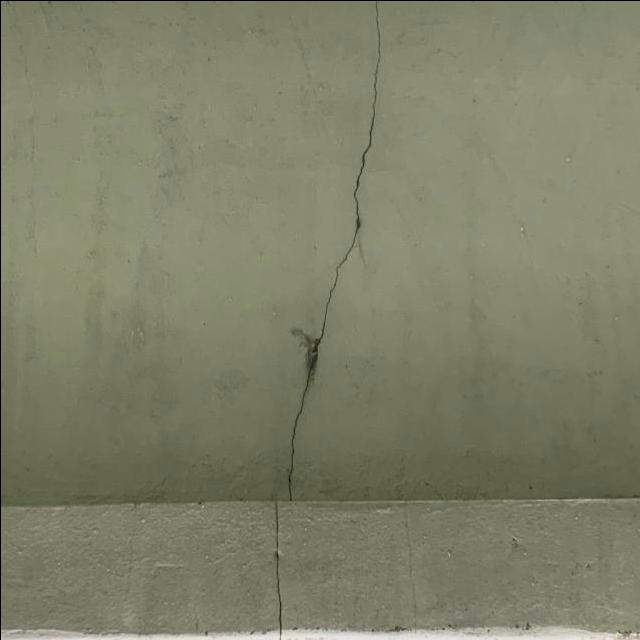SurfaceCrack: (261, 0, 406, 498)
